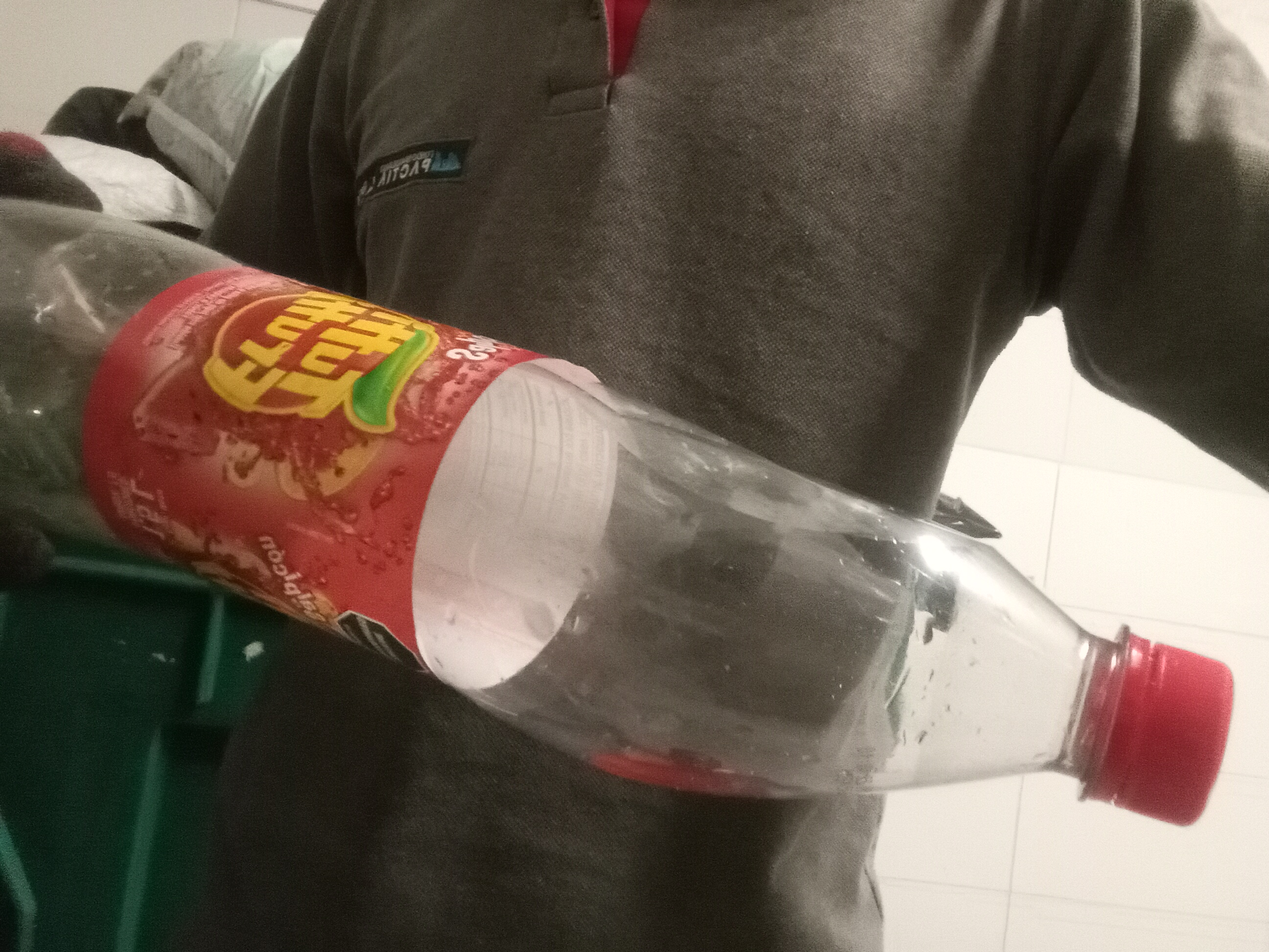Plastico: (0, 198, 1232, 825)
